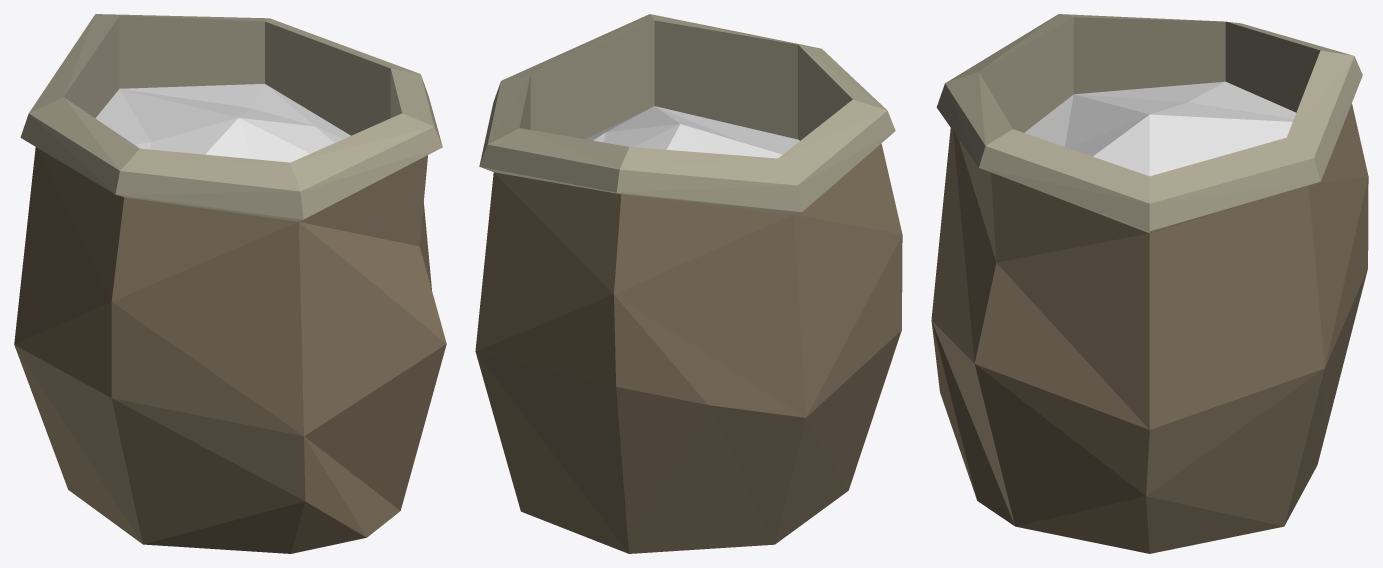
The model's file is co_Flour.fbx.
3 views of the same model, side by side, from view 1: azimuth 30°, elevation 25°; view 2: azimuth 150°, elevation 25°; view 3: azimuth 270°, elevation 25° (orthographic).
Visible parts, largest first — view 1: Flour; view 2: Flour; view 3: Flour.
Boxes of the visible parts, x1,y1,x2,y2 form: Flour: [14, 14, 446, 553]; Flour: [475, 14, 902, 553]; Flour: [931, 14, 1368, 553].
Size of the model in its own units: 216 by 232 by 222.
